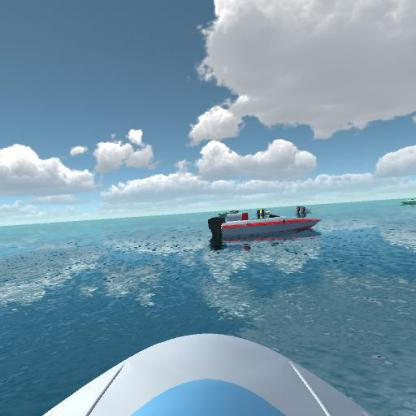usv0: (214, 202, 241, 217), (398, 192, 415, 208)
usv1: (290, 199, 319, 217)
usv2: (254, 203, 274, 217)
usv3: (206, 207, 324, 245)
